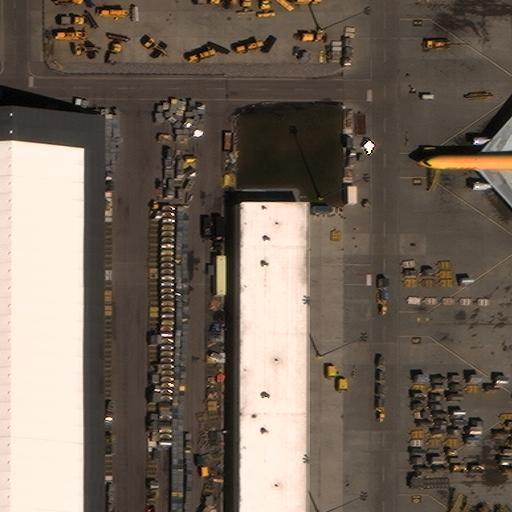Large Civil Transport: (417, 106, 512, 217)
